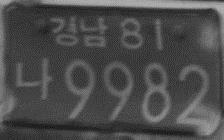1: (151, 16, 166, 53)
2: (172, 62, 212, 128)
8: (139, 61, 172, 124), (119, 16, 144, 49)
9: (100, 59, 134, 124), (61, 57, 95, 121)
경남_O: (47, 15, 110, 49)
나: (13, 55, 53, 101)
